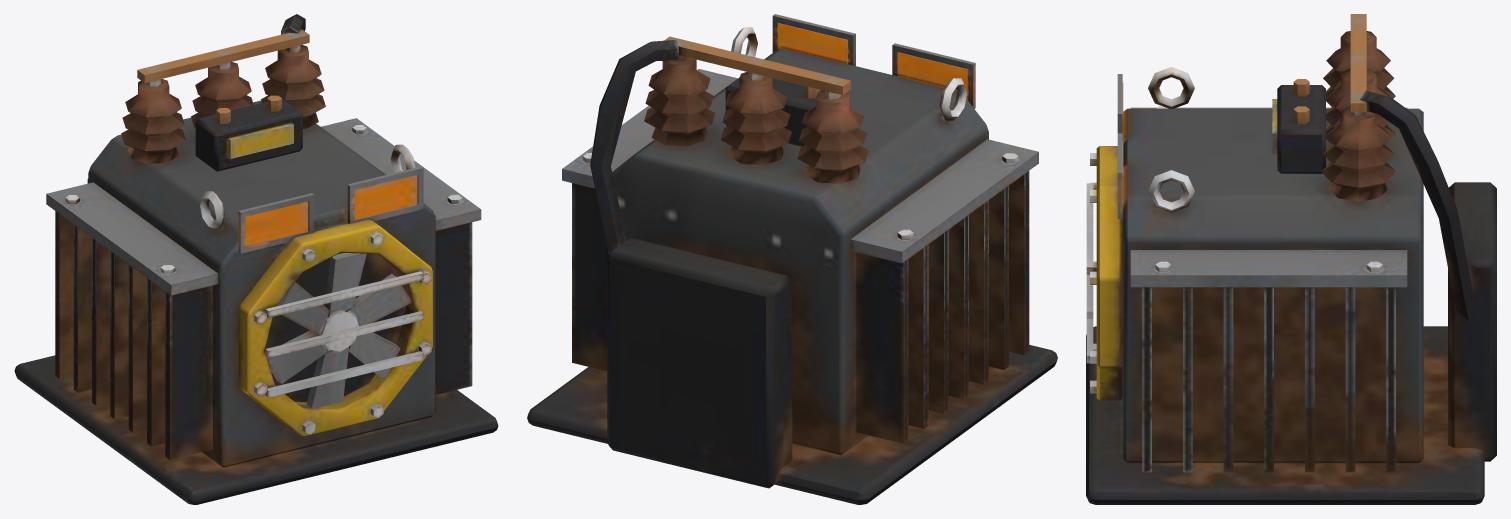
The model's file is R4X_Battery_LOD1.glb.
3 views of the same model, side by side, from view 1: azimuth 30°, elevation 25°; view 2: azimuth 150°, elevation 25°; view 3: azimuth 270°, elevation 25° (orthographic). The views are drawn at different scales.
Visible parts, largest first — view 1: R4X_Battery_LOD1; view 2: R4X_Battery_LOD1; view 3: R4X_Battery_LOD1.
Part boxes in pixels (left/top/right/bottom): R4X_Battery_LOD1: left=14, top=14, right=498, bottom=504; R4X_Battery_LOD1: left=527, top=14, right=1057, bottom=504; R4X_Battery_LOD1: left=1086, top=14, right=1496, bottom=504.
Bounding box in the file's own units: 0.49 × 0.5063 × 0.505.
4 materials, 4 textured.
